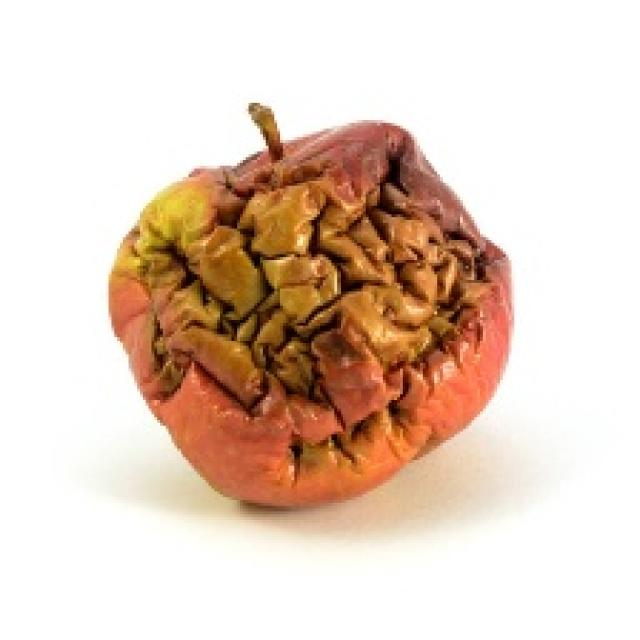rotten_apple: (113, 128, 507, 494)
